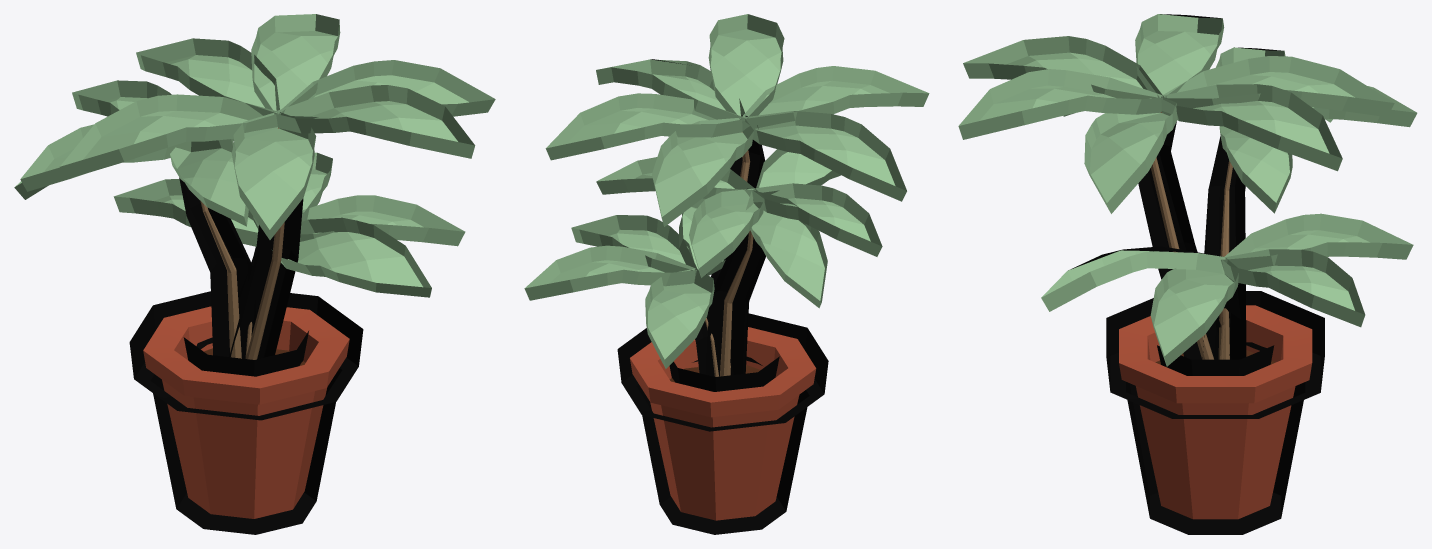
The model's file is Plants.fbx.
3 views of the same model, side by side, from view 1: azimuth 30°, elevation 25°; view 2: azimuth 150°, elevation 25°; view 3: azimuth 270°, elevation 25° (orthographic). The views are drawn at different scales.
Visible parts, largest first — view 1: pot; view 2: pot; view 3: pot.
Part boxes in pixels (x1=…): pot: x1=14, y1=14, x2=495, y2=534; pot: x1=524, y1=14, x2=929, y2=534; pot: x1=958, y1=14, x2=1417, y2=534.
Bounding box in the file's own units: 530 × 578 × 530.
